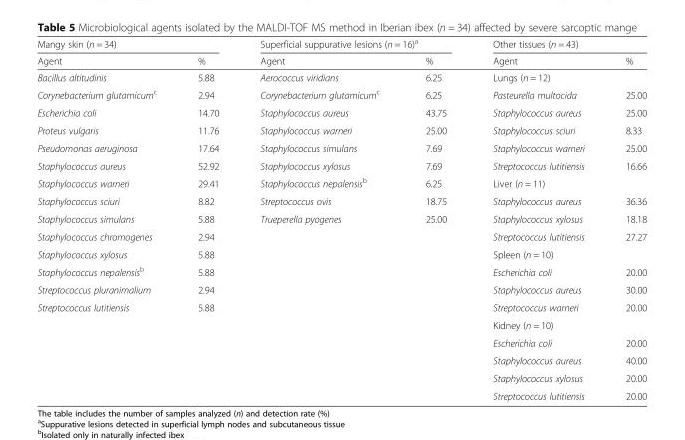table: (36, 36, 646, 401)
table column: (238, 36, 401, 401), (36, 36, 176, 401), (469, 36, 604, 401), (401, 36, 469, 401), (176, 36, 238, 401), (604, 36, 646, 401)
table column header: (36, 36, 646, 68)
table row: (36, 173, 646, 192), (36, 85, 646, 103), (36, 103, 646, 121), (36, 138, 646, 156), (36, 209, 646, 227), (36, 227, 646, 245), (36, 262, 646, 280), (36, 280, 646, 298), (36, 315, 646, 333), (36, 333, 646, 351), (36, 351, 646, 369), (36, 68, 646, 85), (36, 121, 646, 138), (36, 156, 646, 173), (36, 192, 646, 209), (36, 245, 646, 262), (36, 298, 646, 315), (36, 369, 646, 386), (36, 36, 646, 52), (36, 52, 646, 68), (36, 386, 646, 401)
table spanning cell: (36, 298, 176, 401), (238, 36, 469, 52), (36, 36, 238, 52), (469, 36, 646, 52)
